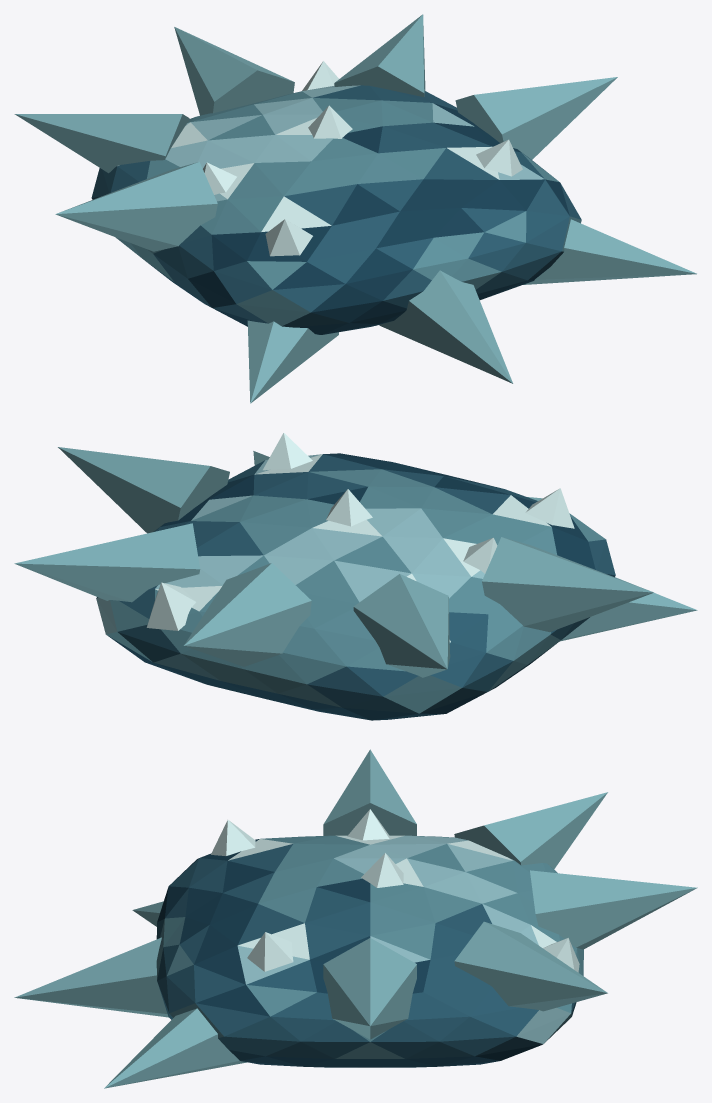
Rendered from newsha-167-f2.glb.
The picture shows the model from 3 angles, top to bottom: view 1: azimuth 30°, elevation 25°; view 2: azimuth 150°, elevation 25°; view 3: azimuth 270°, elevation 25°; orthographic projection. The views are drawn at different scales.
Visible parts, largest first — view 1: newsha-167-f2; view 2: newsha-167-f2; view 3: newsha-167-f2.
Part boxes in pixels (x1,y1,x2,y2): newsha-167-f2: [14, 14, 696, 403]; newsha-167-f2: [14, 433, 697, 720]; newsha-167-f2: [14, 749, 697, 1088].
Bounding box in the file's own units: 1.92 × 0.5717 × 2.
